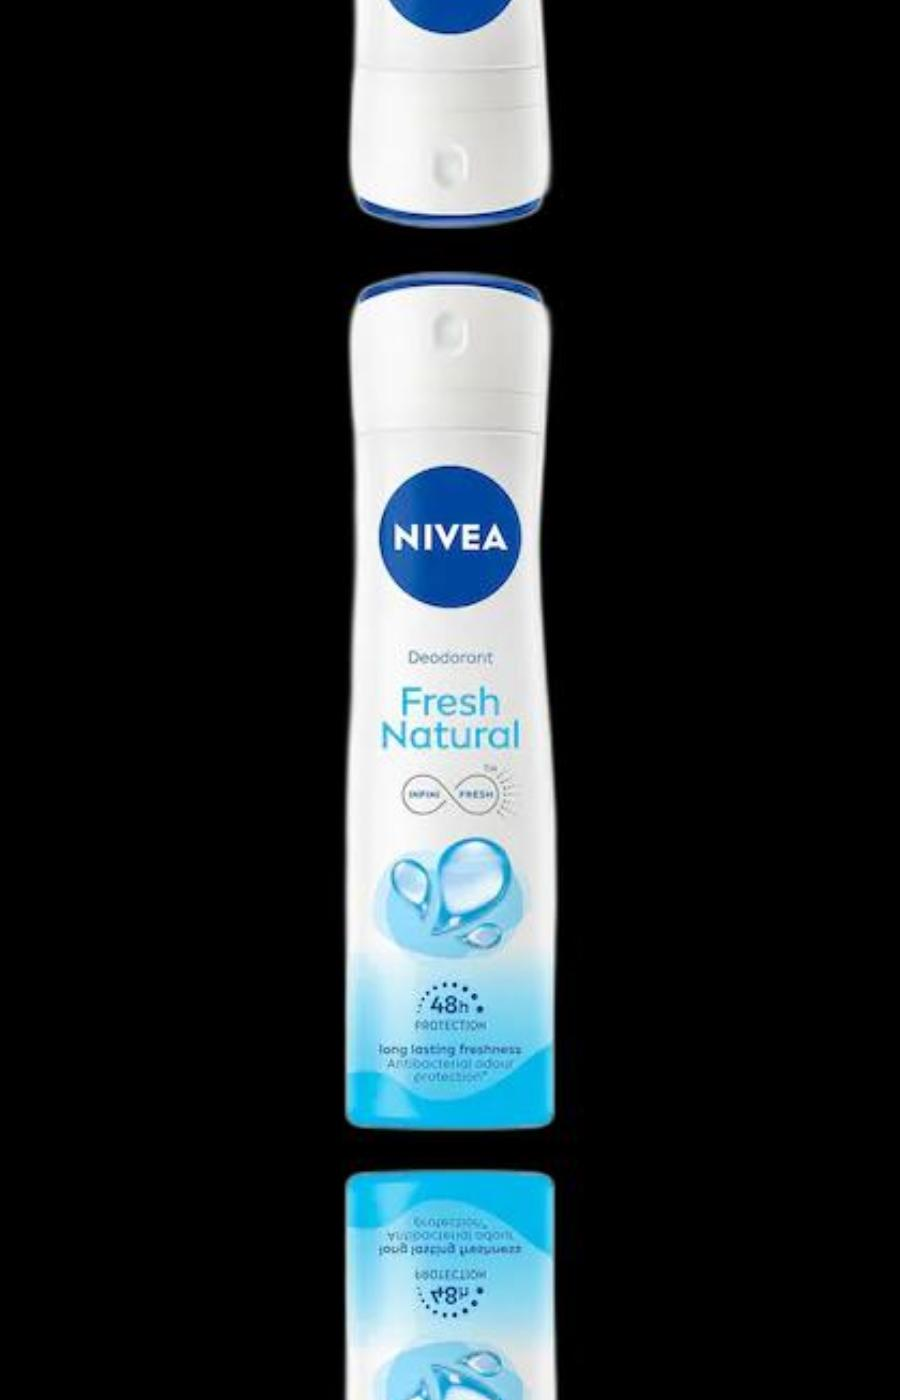Nivea Fresh Natural Deodorant 150 ml: (358, 264, 560, 1128), (358, 0, 560, 235), (358, 1172, 560, 1400)
